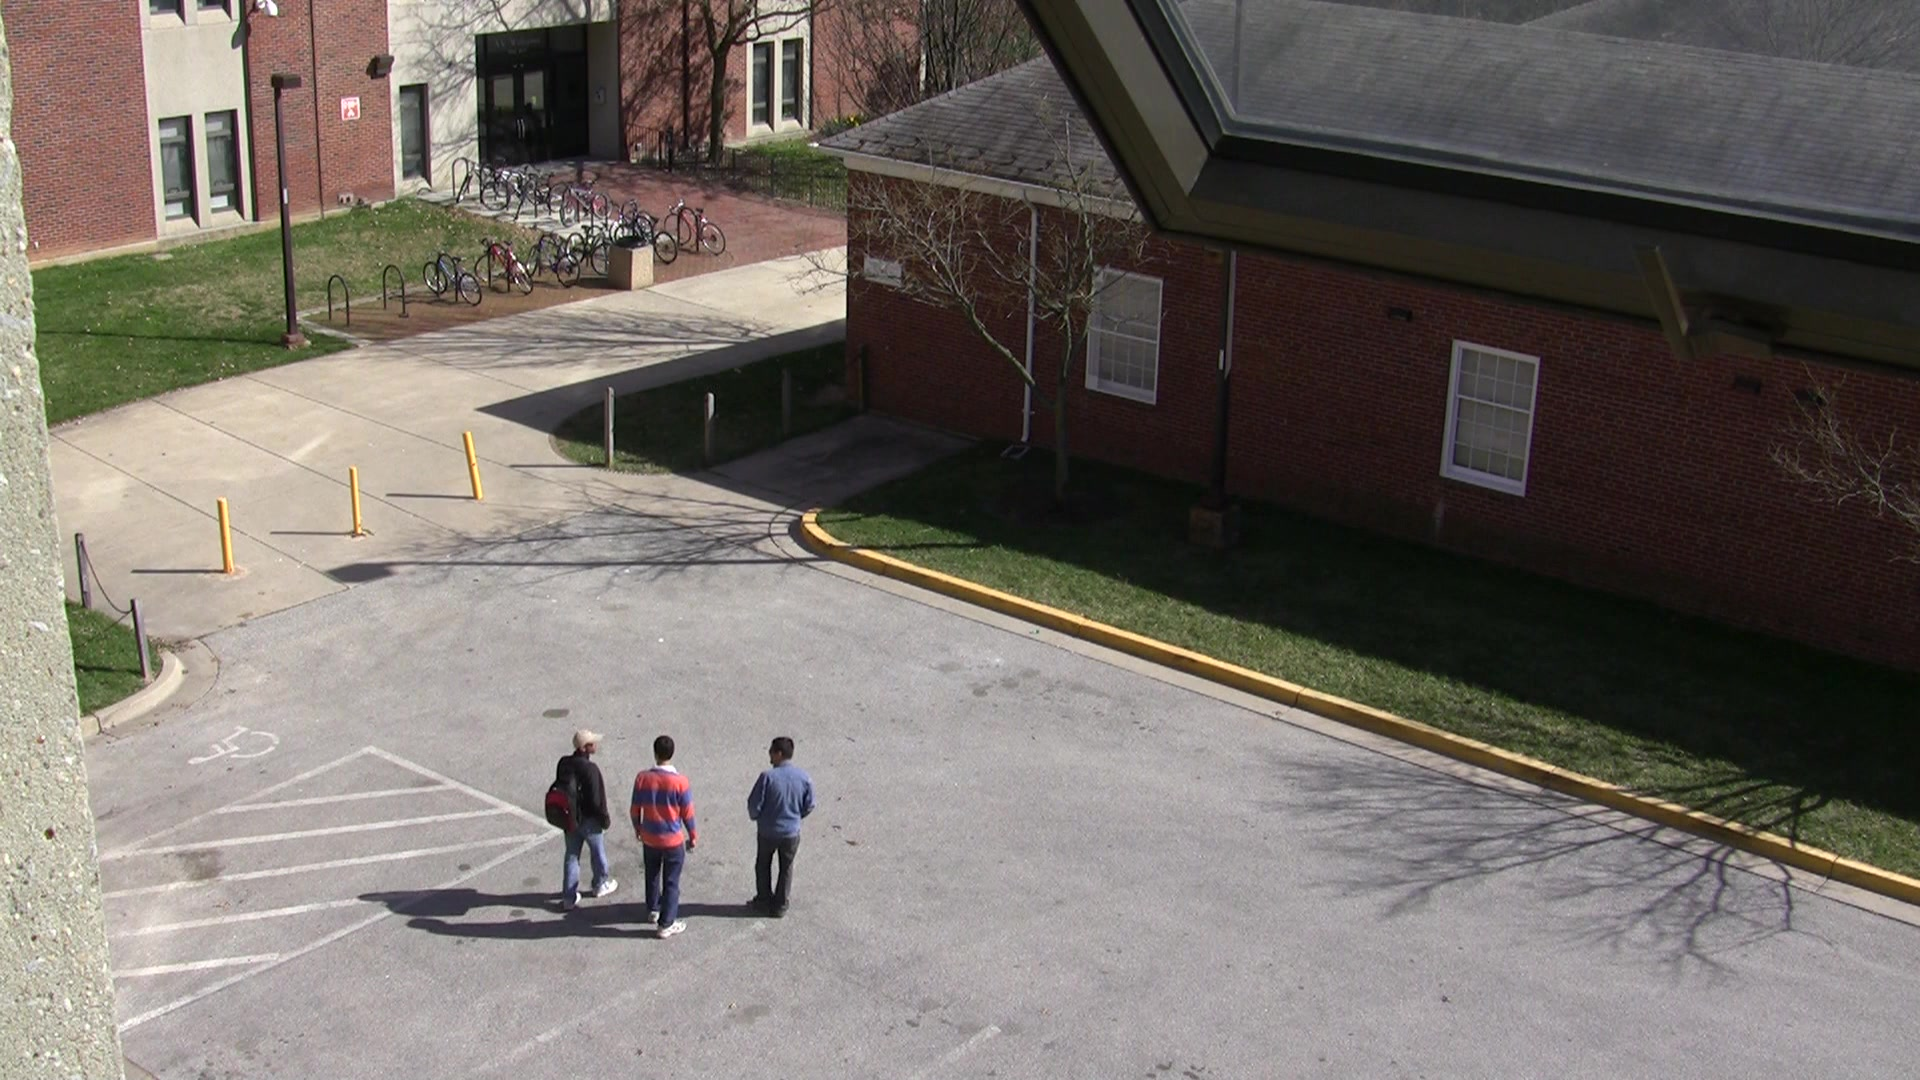person: (611, 730, 719, 955), (527, 715, 623, 918), (742, 724, 819, 932)
